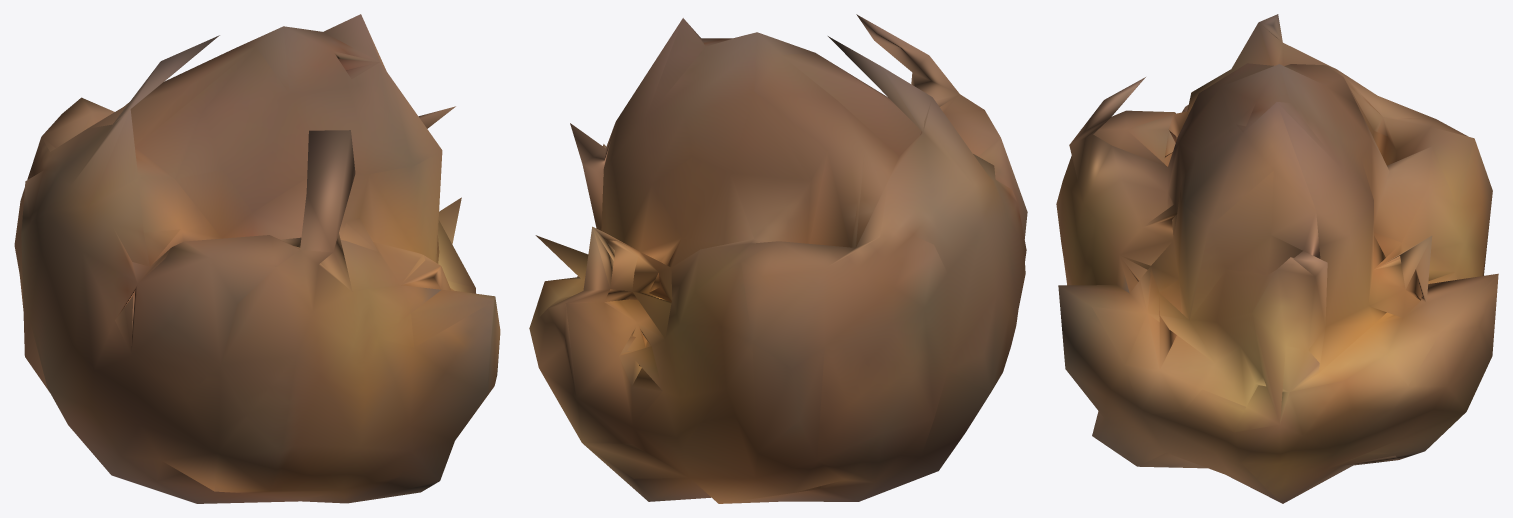
Rendered from gem_echoing_guard.glb.
3 renders of one model, left to right at view 1: azimuth 30°, elevation 25°; view 2: azimuth 150°, elevation 25°; view 3: azimuth 270°, elevation 25°, orthographic. The views are drawn at different scales.
Parts seen in each view (by area): view 1: model; view 2: model; view 3: model.
Part boxes in pixels (bbox=[...]): model: bbox=[14, 14, 500, 503]; model: bbox=[529, 14, 1027, 503]; model: bbox=[1056, 14, 1498, 503].
Size of the model in its own units: 0.382 by 0.3864 by 0.3707.
1 material, 1 textured.
